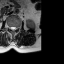CCS_normal: (12, 24, 14, 33)
LFS_normal: (16, 24, 18, 32)
LLS_normal: (14, 24, 16, 32)
RFS_normal: (8, 24, 10, 32)
RLS_normal: (10, 24, 12, 32)
